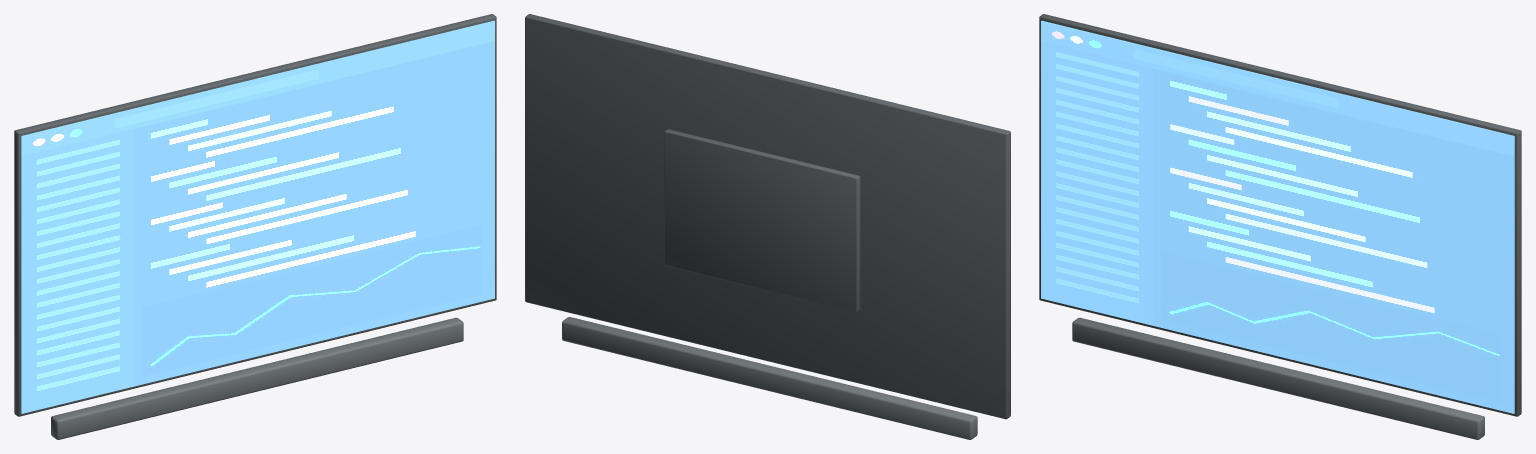
File: tech.wall-screen.glb
3 renders of one model, left to right at view 1: azimuth 30°, elevation 25°; view 2: azimuth 150°, elevation 25°; view 3: azimuth 330°, elevation 25°, orthographic.
Visible parts, largest first — view 1: tech.wall-screen; view 2: tech.wall-screen; view 3: tech.wall-screen.
Boxes of the visible parts, x1,y1,x2,y2 form: tech.wall-screen: (14,14,496,439); tech.wall-screen: (525,14,1010,439); tech.wall-screen: (1039,14,1521,439).
Size of the model in its own units: 1.5 by 0.94 by 0.07.
Materials: 3 (1 with a texture image).
